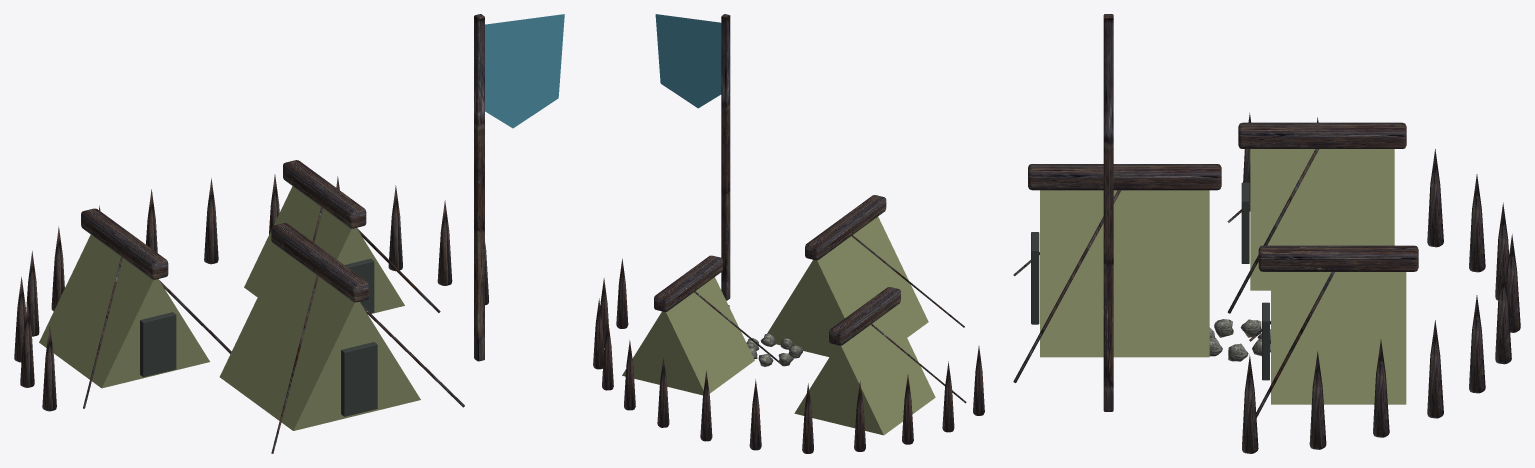
The model's file is env-site-volkareCamp.glb.
3 renders of one model, left to right at view 1: azimuth 30°, elevation 25°; view 2: azimuth 150°, elevation 25°; view 3: azimuth 270°, elevation 25°, orthographic. The views are drawn at different scales.
Visible parts, largest first — view 1: site volkareCamp · authored textured miniature; view 2: site volkareCamp · authored textured miniature; view 3: site volkareCamp · authored textured miniature.
Part boxes in pixels (x1=…): site volkareCamp · authored textured miniature: x1=14, y1=14, x2=564, y2=453; site volkareCamp · authored textured miniature: x1=593, y1=14, x2=984, y2=453; site volkareCamp · authored textured miniature: x1=1013, y1=14, x2=1520, y2=453.
Size of the model in its own units: 1.51 by 1.1 by 1.26.
5 materials, 2 textured.
